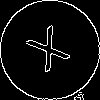X: (25, 25, 78, 81)
